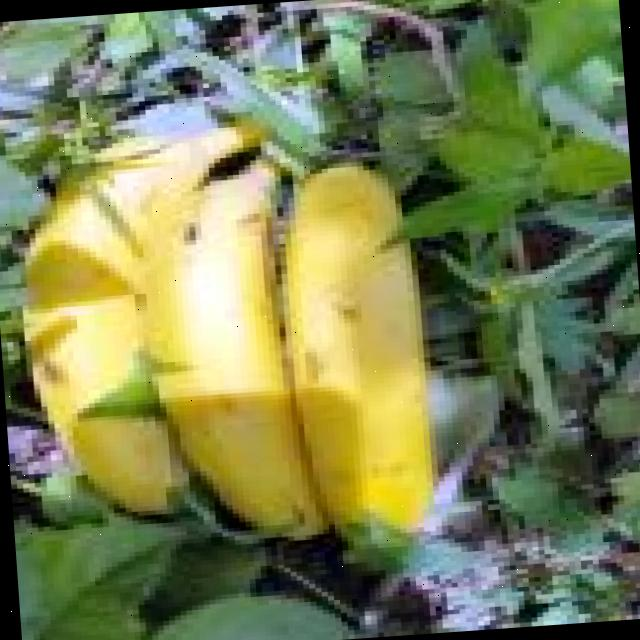Good_Banana-2-3 days: (27, 125, 435, 538)
